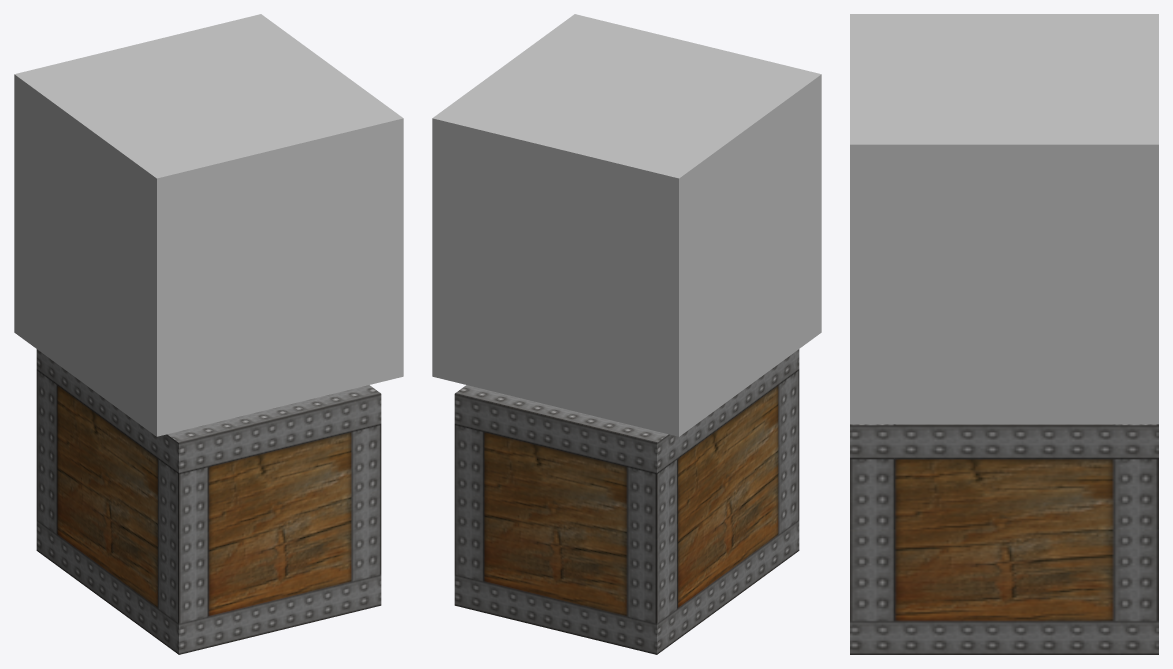
The model's file is P_Modul_34.FBX.
The picture shows the model from 3 angles, left to right: view 1: azimuth 30°, elevation 25°; view 2: azimuth 150°, elevation 25°; view 3: azimuth 270°, elevation 25°; orthographic projection. The views are drawn at different scales.
Visible parts, largest first — view 1: P_Modul_34_Schiebestein, P_Modul_34_Kiste; view 2: P_Modul_34_Schiebestein, P_Modul_34_Kiste; view 3: P_Modul_34_Schiebestein, P_Modul_34_Kiste.
Boxes of the visible parts, box(x1,y1,x2,y2) form: P_Modul_34_Schiebestein: box(14, 14, 403, 436); P_Modul_34_Kiste: box(36, 349, 381, 654); P_Modul_34_Schiebestein: box(432, 14, 821, 436); P_Modul_34_Kiste: box(454, 349, 799, 654); P_Modul_34_Schiebestein: box(850, 14, 1158, 424); P_Modul_34_Kiste: box(850, 424, 1158, 654).
Bounding box in the file's own units: 5 × 9.33 × 5.
